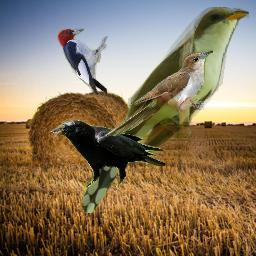Crow: (49, 120, 165, 187)
Cuckoo: (82, 7, 249, 213), (103, 49, 213, 137)
Woodpecker: (56, 26, 110, 97)
